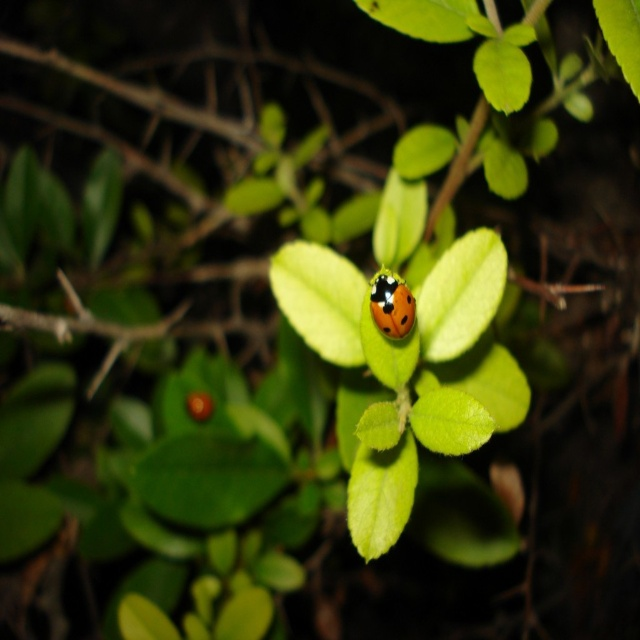Ladybug: (366, 261, 414, 342)
